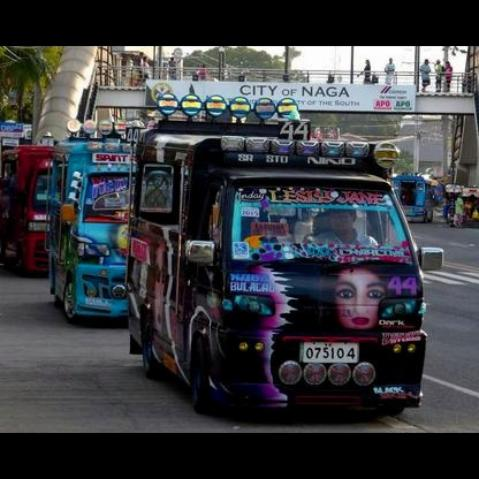jeepney: (112, 101, 447, 434)
